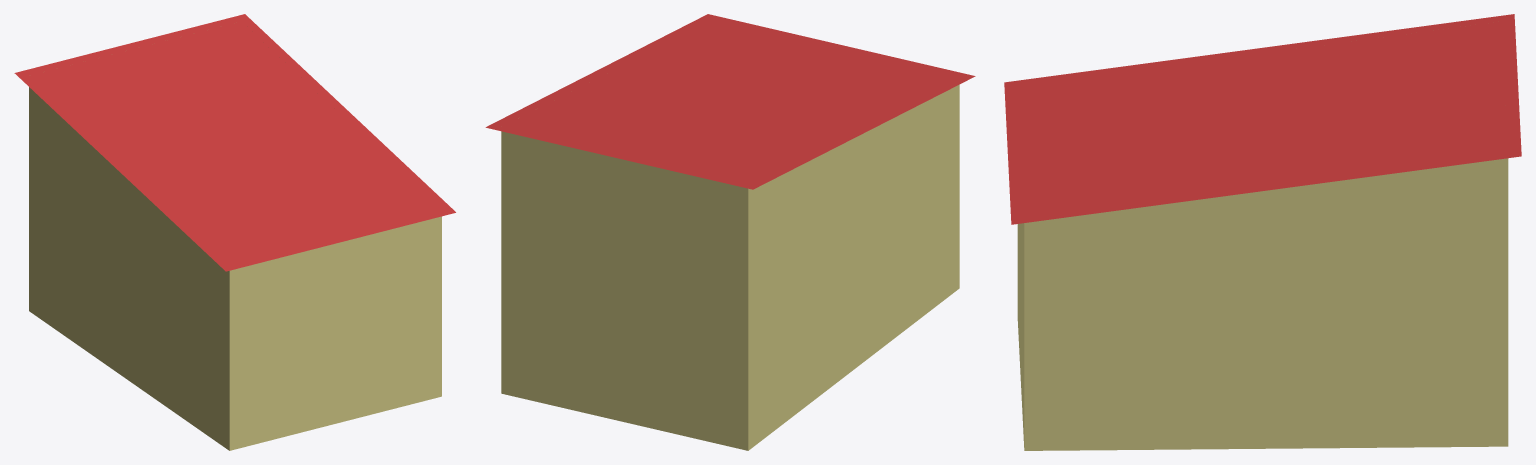
3 views of the same model, side by side, from view 1: azimuth 30°, elevation 25°; view 2: azimuth 150°, elevation 25°; view 3: azimuth 270°, elevation 25° (orthographic). The views are drawn at different scales.
Size of the model in its own units: 6.55 by 9.75 by 6.15.
